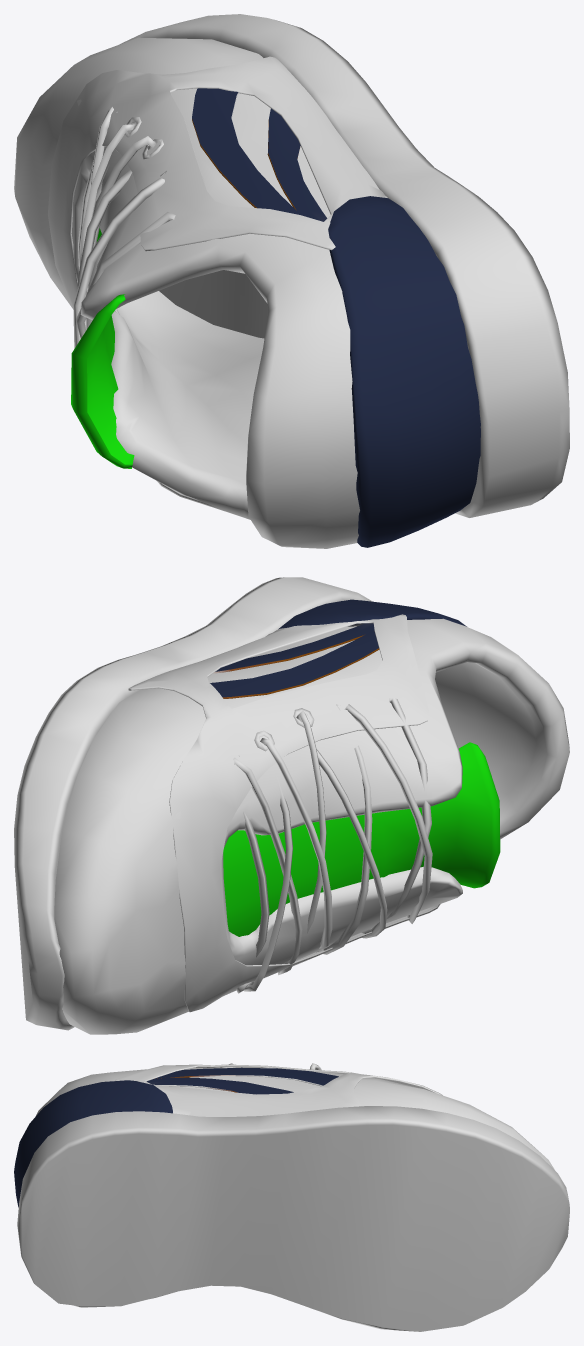
File: SM_Deportiva.fbx
3 views of the same model, one above another, from view 1: azimuth 30°, elevation 25°; view 2: azimuth 150°, elevation 25°; view 3: azimuth 270°, elevation 25° (orthographic). The views are drawn at different scales.
Parts seen in each view (by area): view 1: Bambas; view 2: Bambas; view 3: Bambas.
Part boxes in pixels (<box>): Bambas: <box>14,14,569,548</box>; Bambas: <box>14,577,569,1034</box>; Bambas: <box>14,1063,569,1331</box>.
Size of the model in its own units: 13.97 by 28.06 by 12.23.
